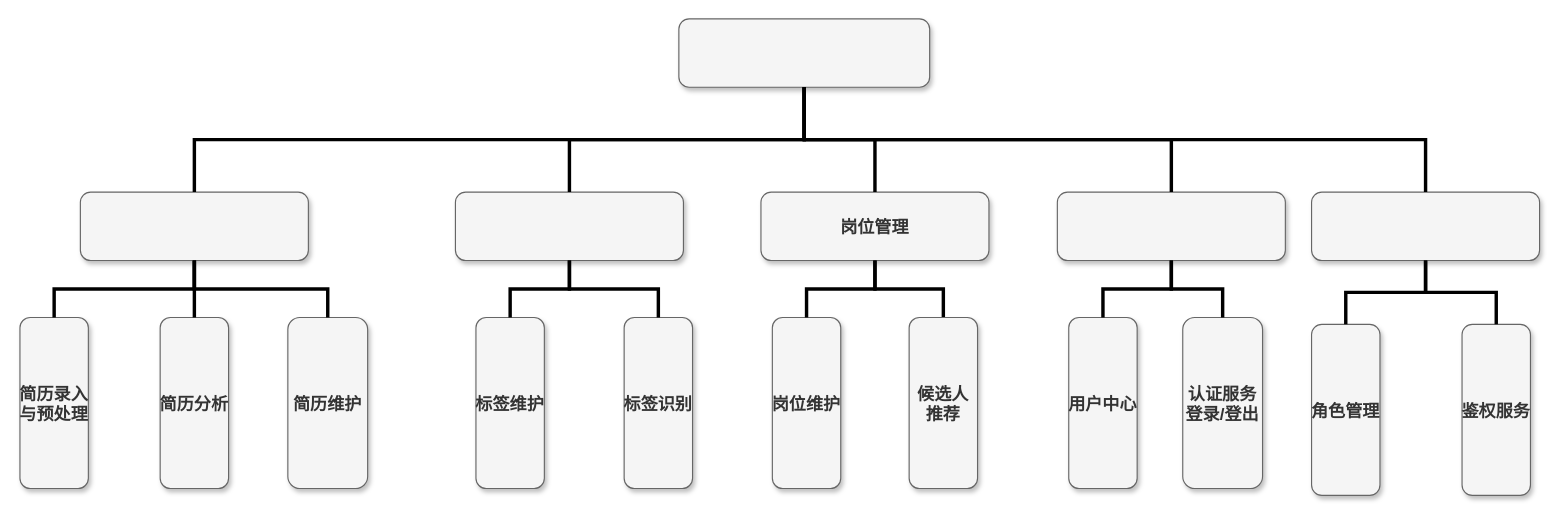
This 1558x514 diagram has some shape labels left out. Each missing label, with the centre of its shape:
人才画像: point (805, 54)
权限管理: point (1426, 227)
标签管理: point (570, 227)
用户管理: point (1172, 227)
简历管理: point (195, 227)
